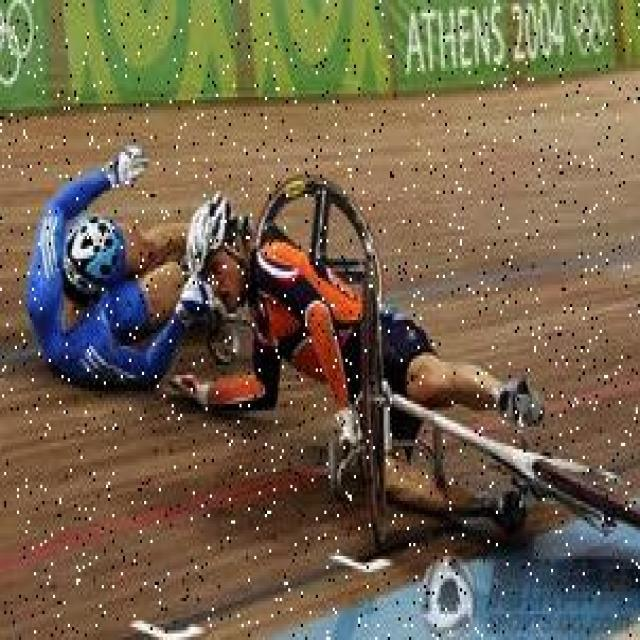fall: (190, 198, 518, 526), (11, 142, 210, 382)
